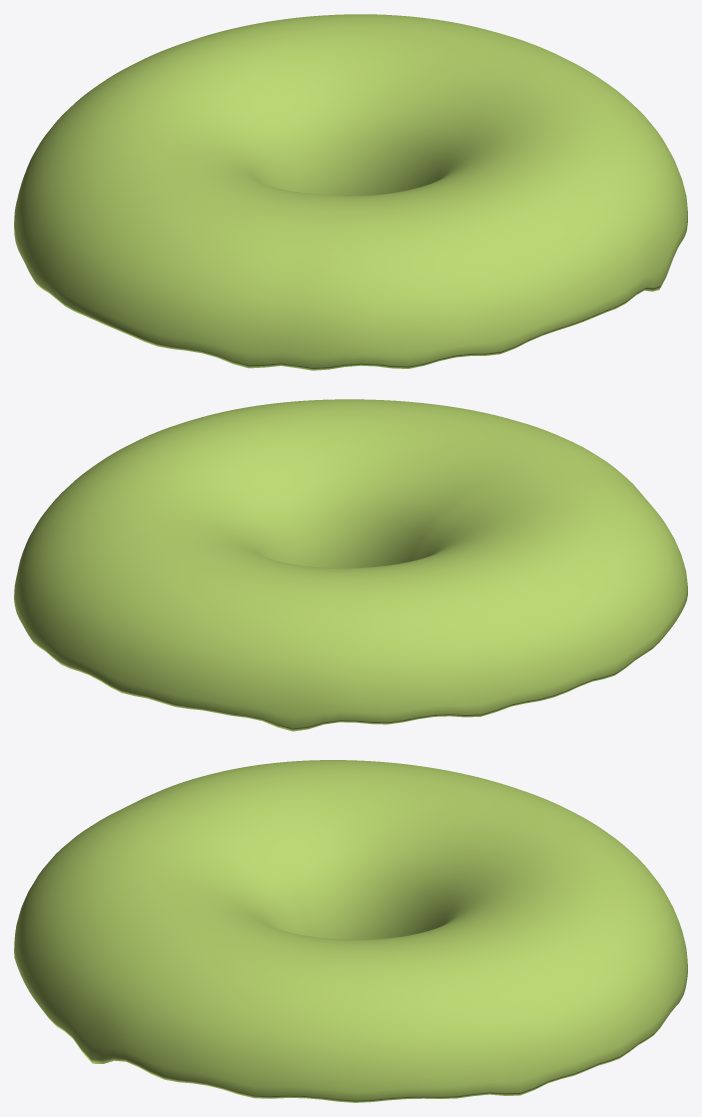
File: pistachio chocolate vermicheli.glb
The picture shows the model from 3 angles, top to bottom: view 1: azimuth 30°, elevation 25°; view 2: azimuth 150°, elevation 25°; view 3: azimuth 270°, elevation 25°; orthographic projection. The views are drawn at different scales.
Parts seen in each view (by area): view 1: chocolate; view 2: chocolate; view 3: chocolate.
Part boxes in pixels (x1,y1,x2,y2): chocolate: (14, 14, 687, 370); chocolate: (14, 399, 687, 731); chocolate: (14, 760, 687, 1102).
Size of the model in its own units: 0.1988 by 0.0428 by 0.1971.
